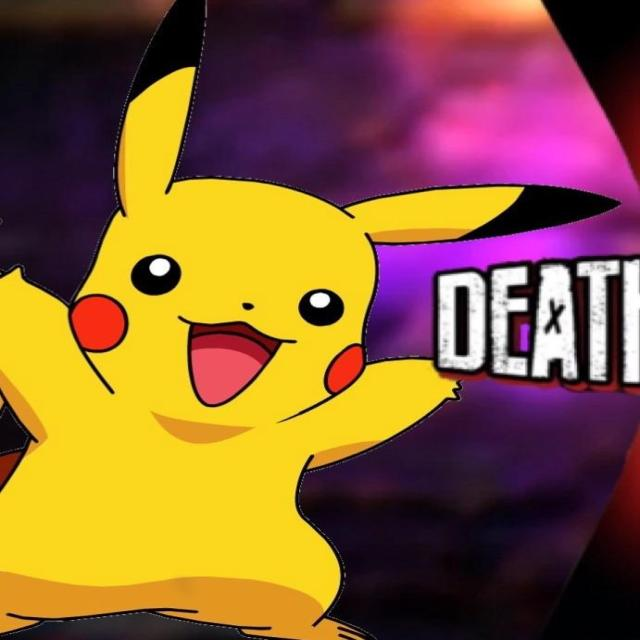pikachu: (0, 0, 612, 634)
